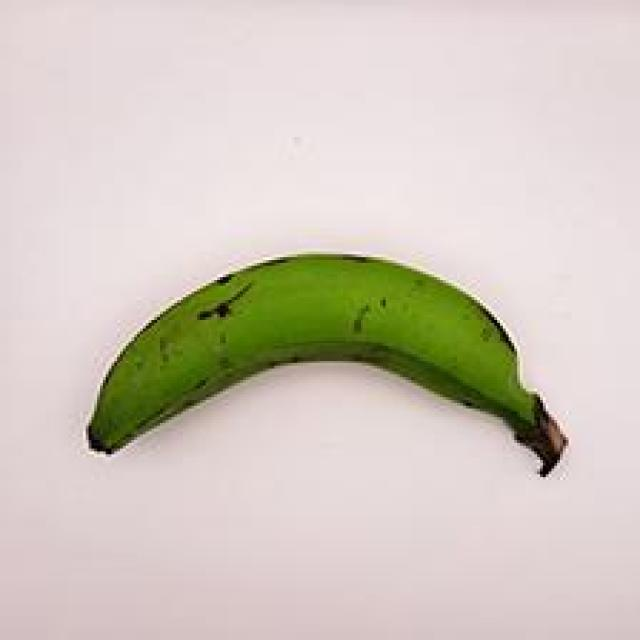Raw: (61, 233, 587, 507)
